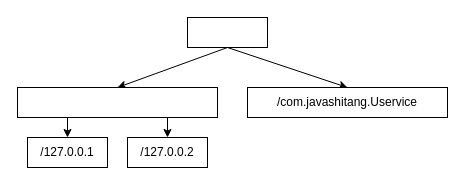
Some shapes in this 465 by 185 pixel diagram are drawn without their labels. Here are the shapes that lost their labels. From the top down, the centre of each, then its label:
At point (227, 32): "/dubbo".
At point (117, 102): "/com.javashitang.DemoService".
